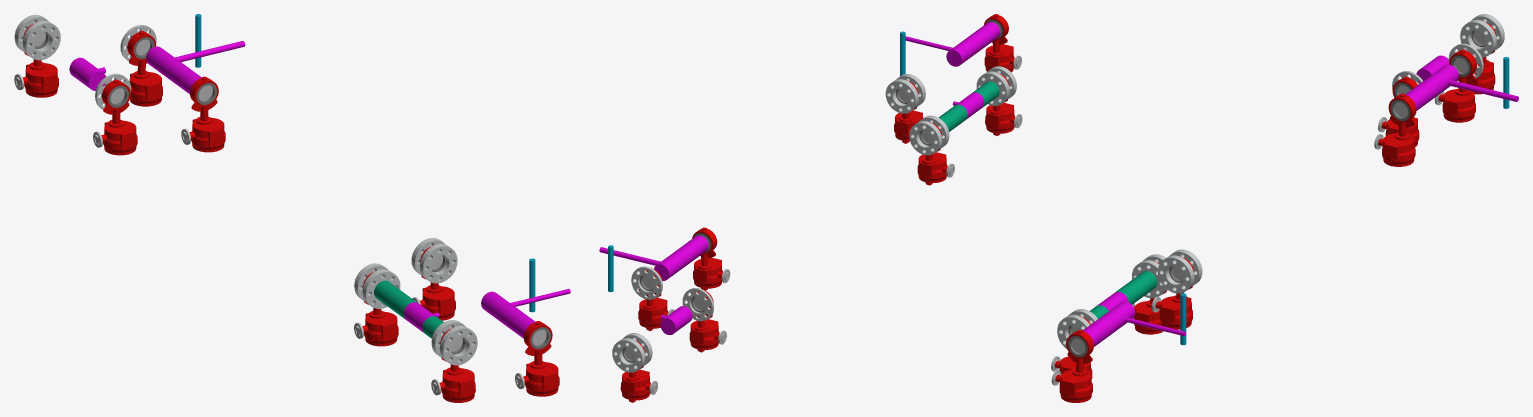
3 views of the same model, side by side, from view 1: azimuth 30°, elevation 25°; view 2: azimuth 150°, elevation 25°; view 3: azimuth 330°, elevation 25° (orthographic). The views are drawn at different scales.
Size of the model in its own units: 0.9122 by 0.6492 by 5.25.
